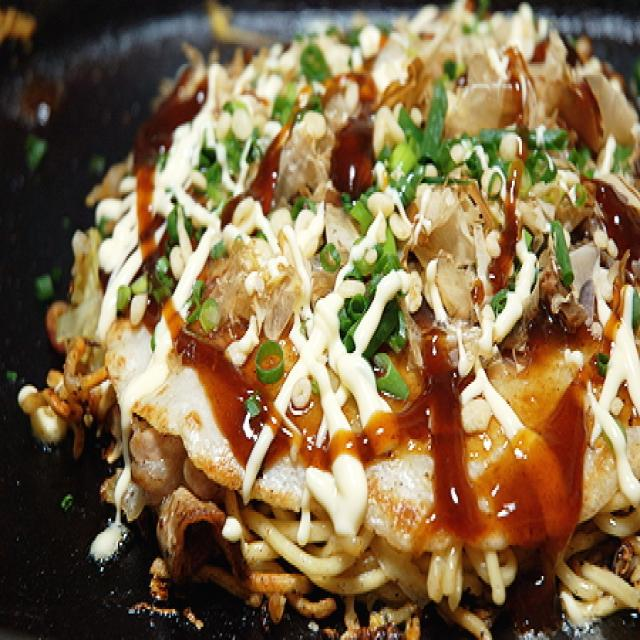蛋糕甜品: (44, 0, 640, 640)
